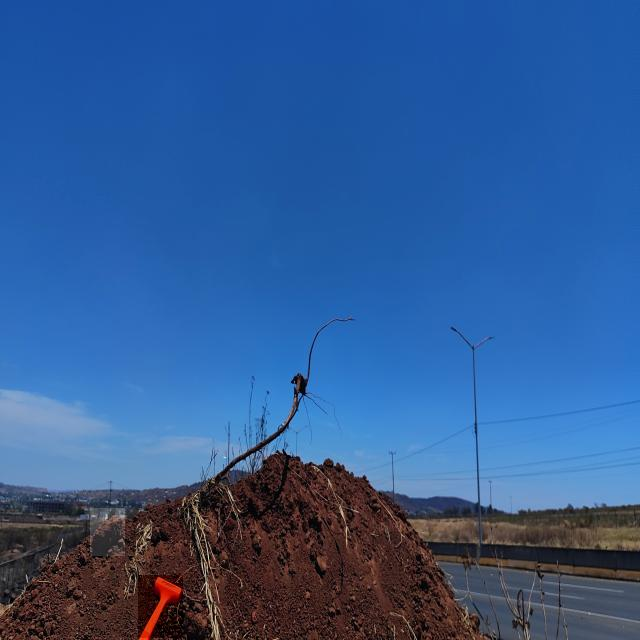Orange_hammer: (138, 575, 183, 638)
rock: (90, 508, 125, 556)
